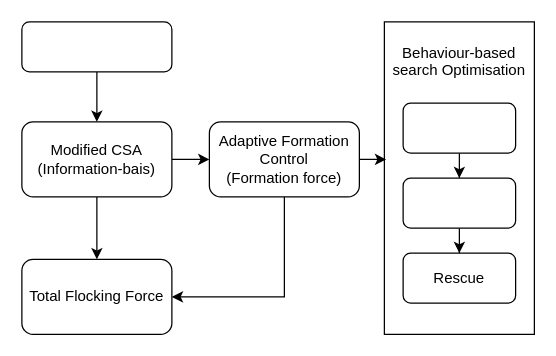
Image size: 556x356. Some labels were removed from this diagram. Each missing label, with the box of its shape:
Cohesion-Separation-Alignment (CSA): (21, 21, 172, 72)
Mission: (402, 177, 516, 228)
Search: (402, 102, 516, 153)
